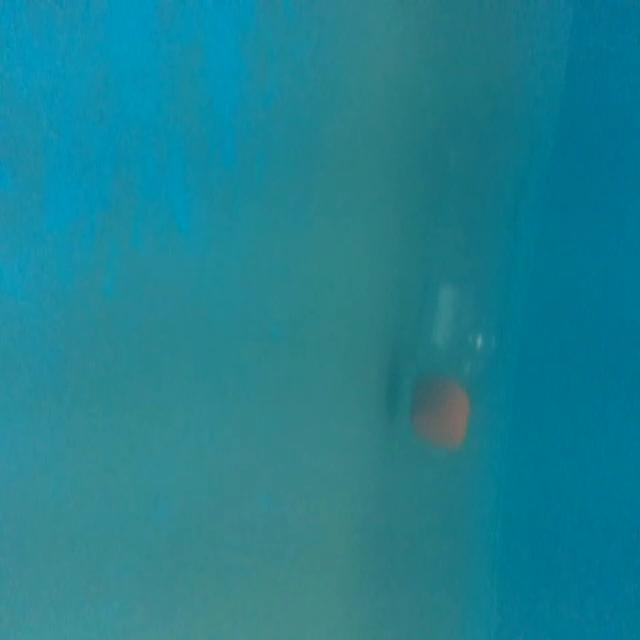plastic bottle: (398, 110, 517, 452)
